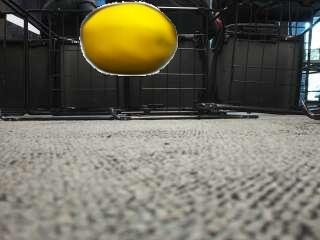lemon: (82, 4, 177, 73)
